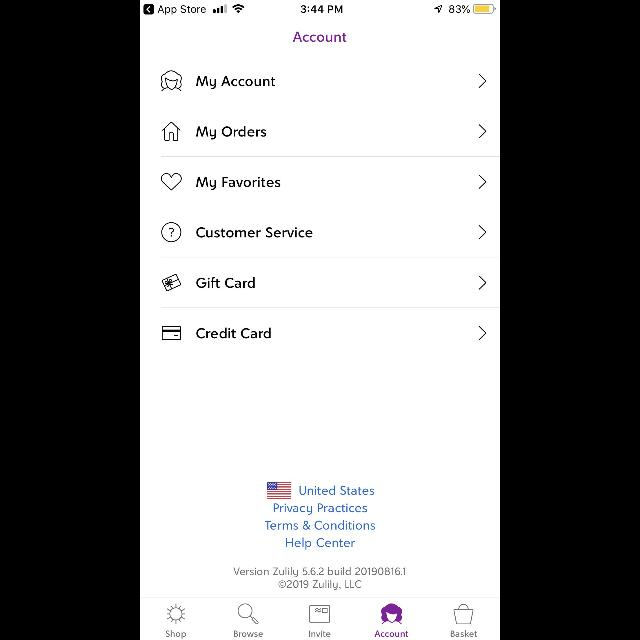icon: (238, 603, 258, 625), (160, 222, 182, 242), (453, 604, 473, 624), (160, 172, 182, 190), (162, 121, 180, 141), (162, 273, 182, 291), (310, 606, 330, 622), (162, 326, 182, 340), (478, 224, 486, 240), (478, 74, 486, 88), (479, 124, 487, 138), (478, 174, 486, 188), (478, 276, 486, 290), (479, 326, 487, 340)
image: (160, 70, 182, 92), (268, 481, 292, 499), (382, 604, 402, 624), (168, 604, 186, 624)
text: (264, 502, 376, 550), (232, 566, 406, 590), (196, 177, 280, 191), (197, 228, 313, 238), (196, 76, 276, 90), (196, 126, 266, 140), (196, 327, 272, 339), (300, 486, 374, 496), (197, 277, 256, 289), (294, 32, 346, 42), (374, 630, 408, 638), (234, 630, 262, 638), (451, 630, 477, 638), (309, 630, 331, 638), (166, 630, 187, 638)
uppertaskbar: (140, 1, 500, 16)
